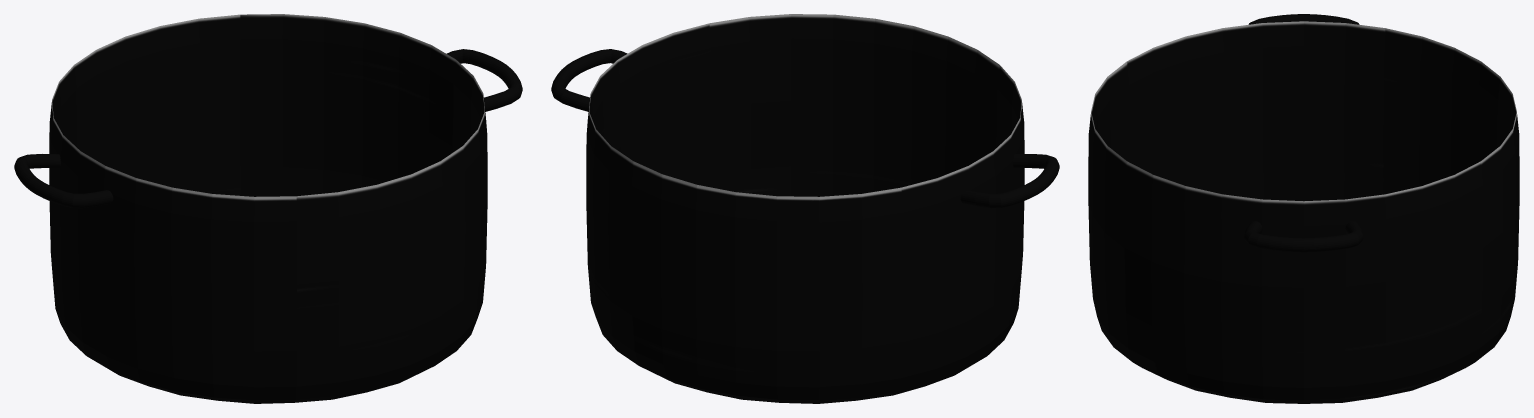
The model's file is Pot.fbx.
3 renders of one model, left to right at view 1: azimuth 30°, elevation 25°; view 2: azimuth 150°, elevation 25°; view 3: azimuth 270°, elevation 25°, orthographic.
Parts seen in each view (by area): view 1: Pot; view 2: Pot; view 3: Pot.
Part boxes in pixels (x1=…): Pot: x1=14, y1=14, x2=522, y2=403; Pot: x1=551, y1=14, x2=1059, y2=403; Pot: x1=1088, y1=14, x2=1519, y2=403.
Size of the model in its own units: 221 by 97.64 by 175.
